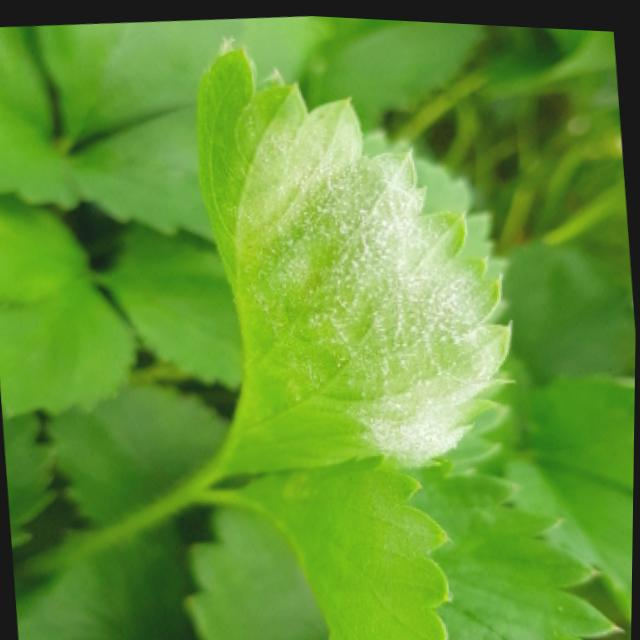Powdery Mildew Leaf: (196, 35, 517, 470)
